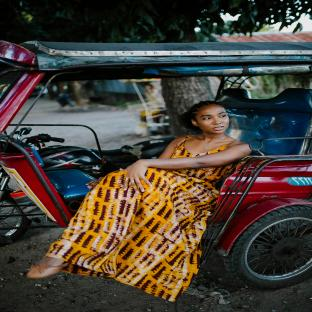Human: (28, 101, 251, 301)
